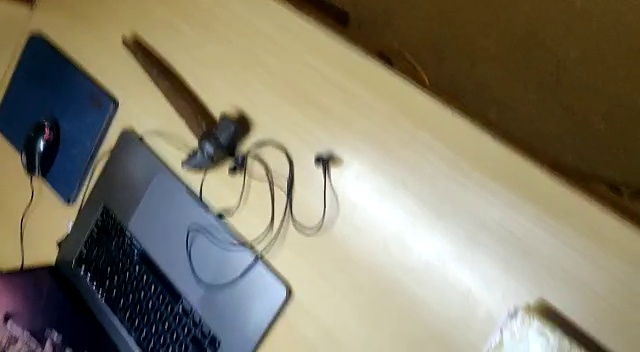hammer: (118, 34, 250, 175)
